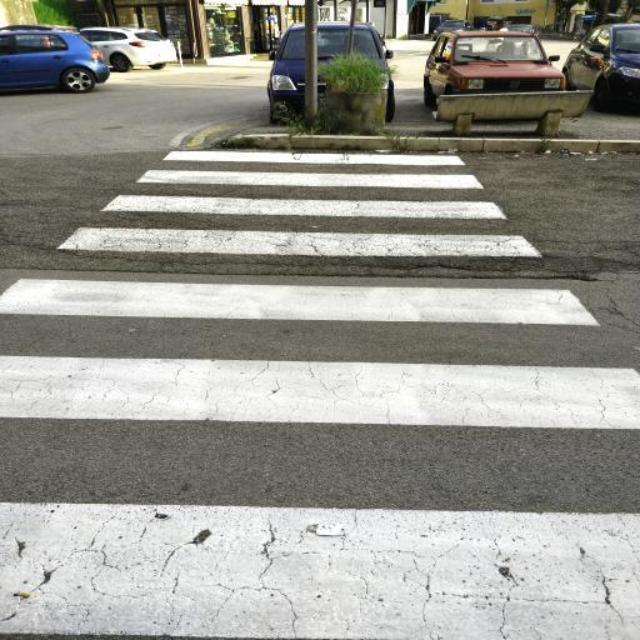sidewalk: (7, 152, 639, 634)
